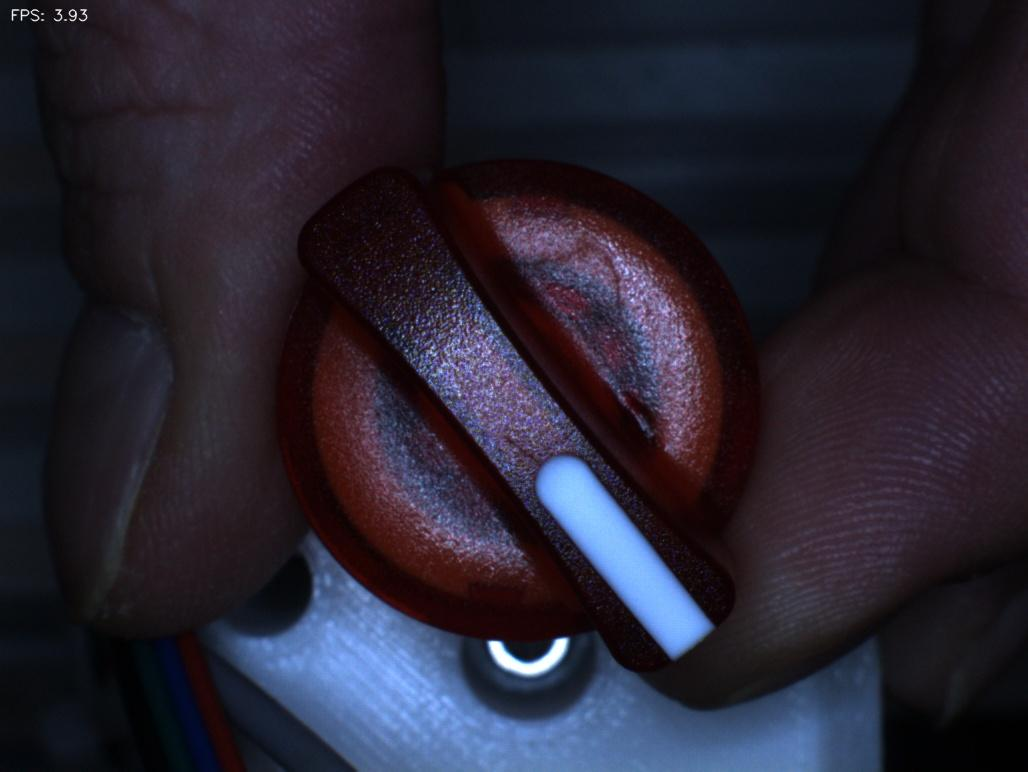Choc: (582, 363, 690, 470)
